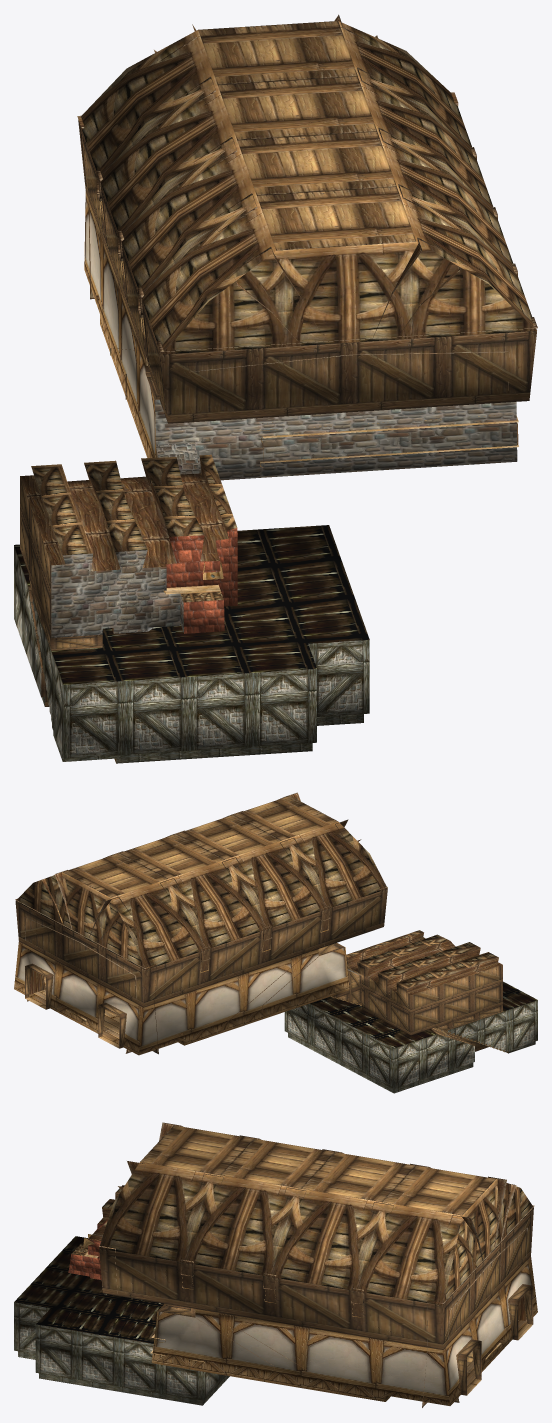
Rendered from stormwind_230.fbx.
3 views of the same model, one above another, from view 1: azimuth 30°, elevation 25°; view 2: azimuth 150°, elevation 25°; view 3: azimuth 270°, elevation 25° (orthographic). The views are drawn at different scales.
Parts seen in each view (by area): view 1: stormwind_230_49, stormwind_230_56, stormwind_230_55, stormwind_230_38, stormwind_230_58, stormwind_230_50, stormwind_230_53, stormwind_230_48, stormwind_230_91, stormwind_230_54; view 2: stormwind_230_49, stormwind_230_56, stormwind_230_48, stormwind_230_58, stormwind_230_55, stormwind_230_53, stormwind_230_50, stormwind_230_51; view 3: stormwind_230_49, stormwind_230_56, stormwind_230_48, stormwind_230_55, stormwind_230_58, stormwind_230_50, stormwind_230_53, stormwind_230_91, stormwind_230_51, stormwind_230_54.
Boxes of the visible parts, x1,y1,x2,y2 form: stormwind_230_49: (31, 21, 536, 602); stormwind_230_56: (20, 120, 536, 706); stormwind_230_55: (198, 21, 415, 250); stormwind_230_38: (51, 399, 517, 637); stormwind_230_58: (14, 545, 369, 763); stormwind_230_50: (14, 525, 369, 684); stormwind_230_53: (20, 14, 537, 763); stormwind_230_48: (84, 191, 155, 457); stormwind_230_91: (166, 528, 237, 633); stormwind_230_54: (68, 201, 518, 594); stormwind_230_49: (16, 821, 498, 988); stormwind_230_56: (15, 889, 502, 1051); stormwind_230_48: (14, 941, 349, 1055); stormwind_230_58: (284, 1000, 537, 1093); stormwind_230_55: (63, 796, 337, 897); stormwind_230_53: (15, 792, 508, 1054); stormwind_230_50: (310, 981, 537, 1048); stormwind_230_51: (25, 978, 119, 1048); stormwind_230_49: (71, 1162, 533, 1305); stormwind_230_56: (99, 1208, 533, 1395); stormwind_230_48: (151, 1256, 537, 1405); stormwind_230_55: (140, 1125, 495, 1215); stormwind_230_58: (14, 1302, 229, 1405); stormwind_230_50: (14, 1236, 163, 1343); stormwind_230_53: (88, 1122, 534, 1407); stormwind_230_91: (68, 1219, 107, 1280); stormwind_230_51: (467, 1320, 532, 1395); stormwind_230_54: (83, 1223, 501, 1365).
Size of the model in its own units: 54.1 by 30.32 by 55.76.
